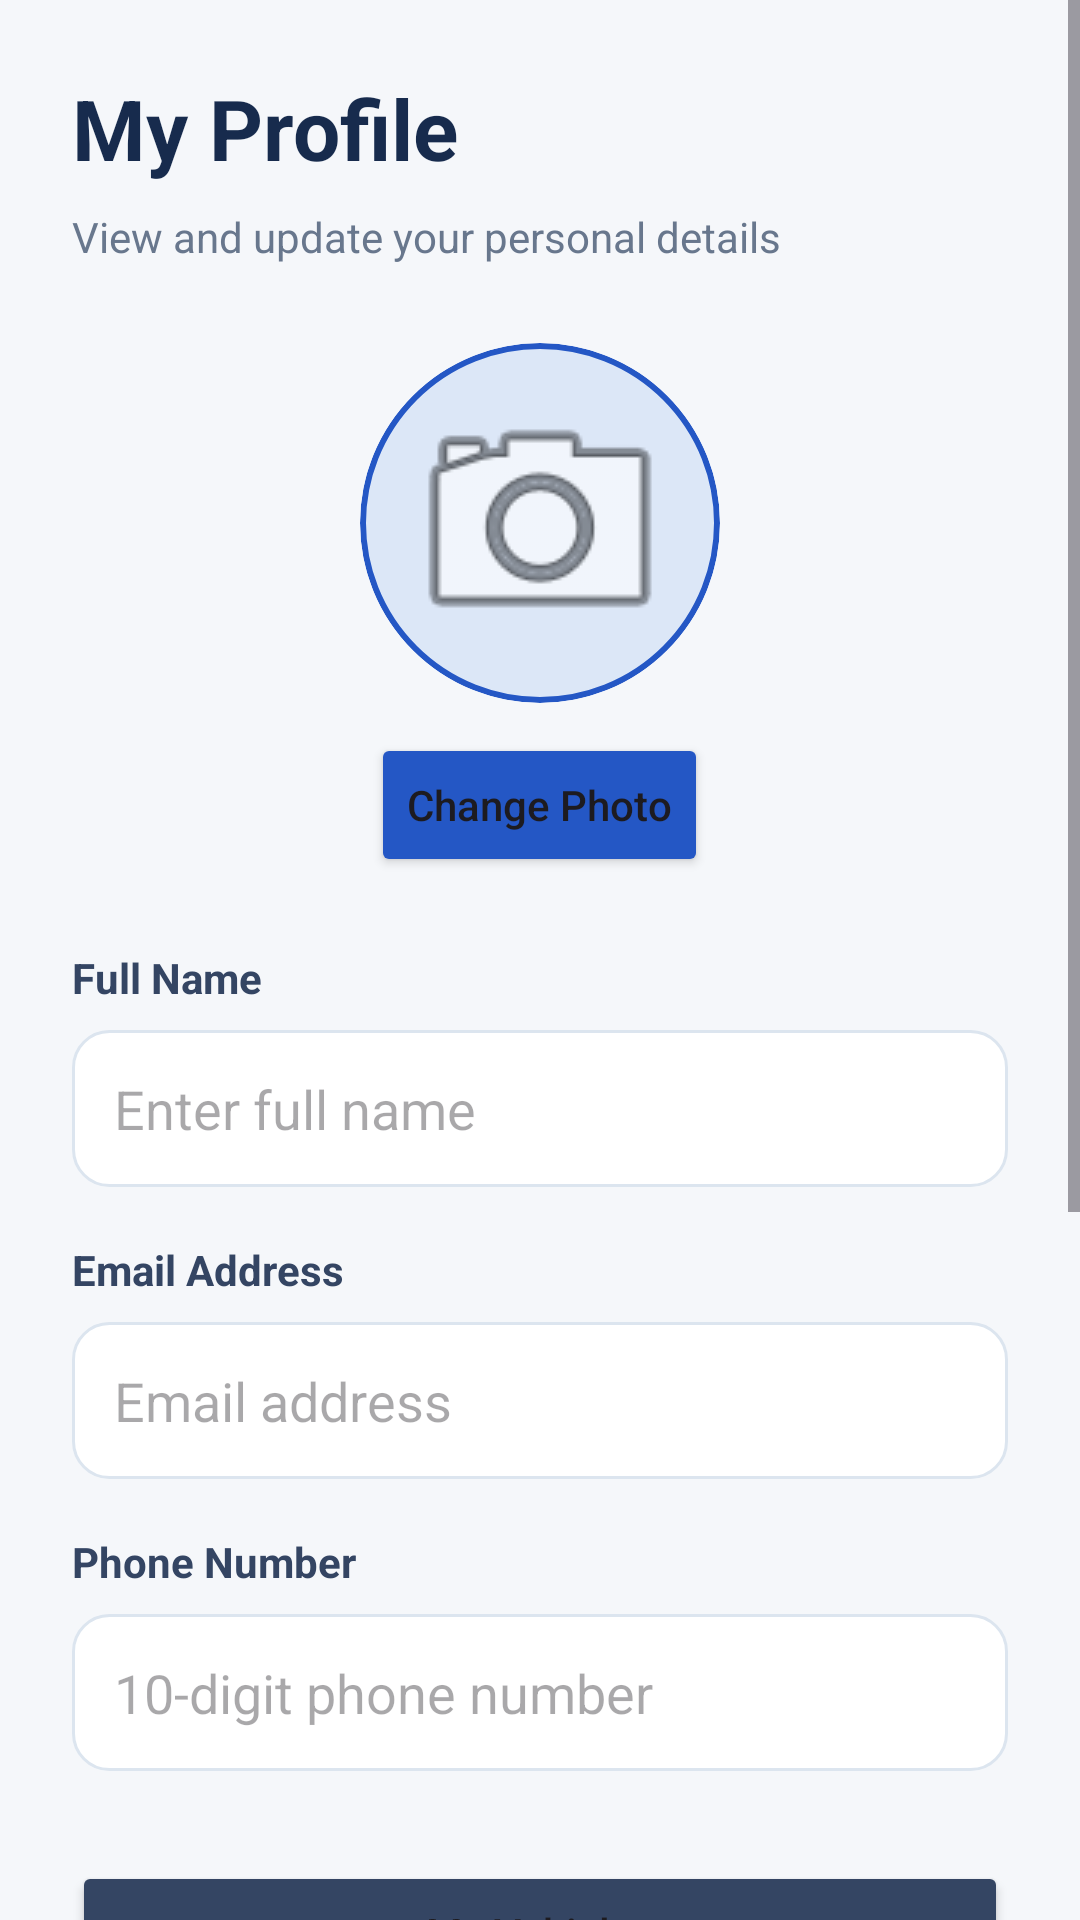

Icons on this 1080px×1920px Android screen, each with its box as bbox=(x1, y1, x2, y2):
Profile photo: bbox=(360, 343, 720, 703)
